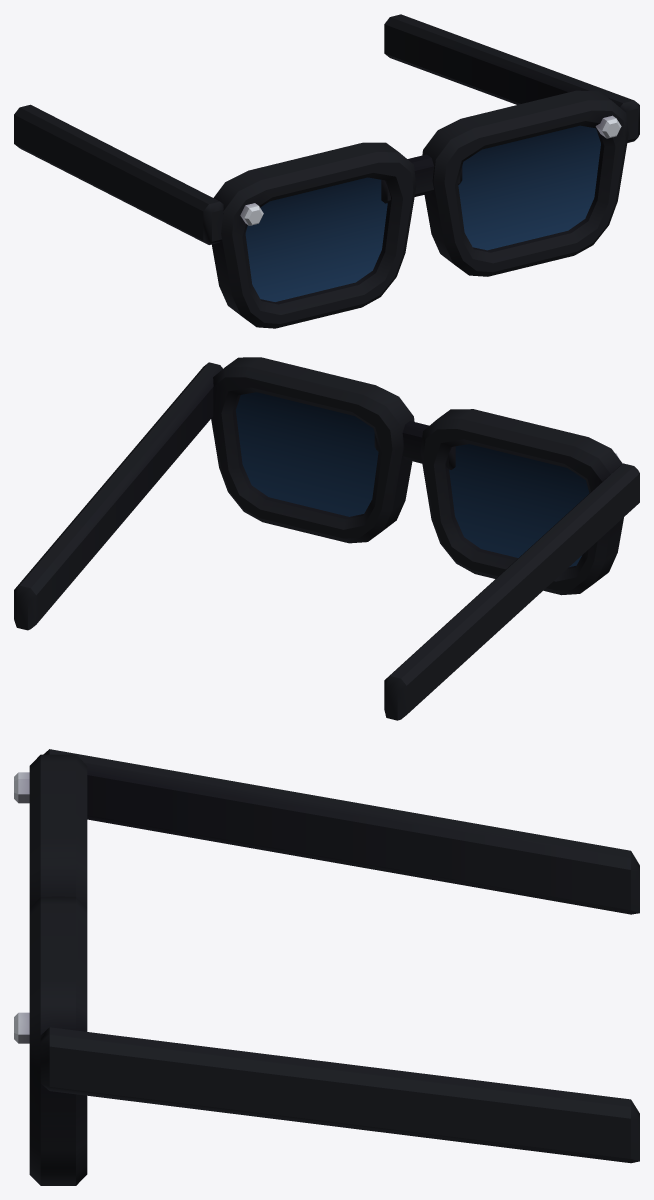
File: shades.glb
3 renders of one model, top to bottom at view 1: azimuth 30°, elevation 25°; view 2: azimuth 150°, elevation 25°; view 3: azimuth 270°, elevation 25°, orthographic. The views are drawn at different scales.
Parts seen in each view (by area): view 1: shades; view 2: shades; view 3: shades.
Part boxes in pixels (<box>): shades: <box>14,14,639,328</box>; shades: <box>14,357,639,720</box>; shades: <box>14,749,639,1185</box>.
Bounding box in the file's own units: 0.1562 × 0.052 × 0.141.
